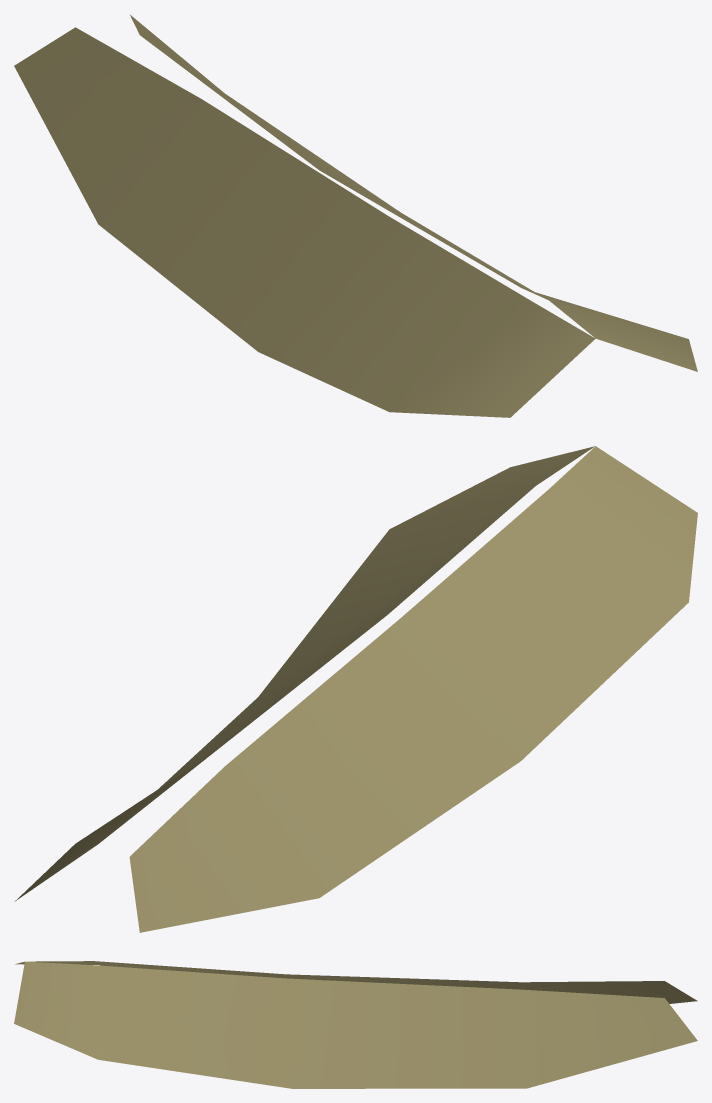
3 views of the same model, one above another, from view 1: azimuth 30°, elevation 25°; view 2: azimuth 150°, elevation 25°; view 3: azimuth 270°, elevation 25° (orthographic). The views are drawn at different scales.
Parts seen in each view (by area): view 1: transp; view 2: transp; view 3: transp.
Part boxes in pixels (x1,y1,x2,y2): transp: [14, 15, 697, 417]; transp: [14, 446, 697, 932]; transp: [14, 961, 697, 1088].
Size of the model in its own units: 0.164 by 0.0743 by 0.5.
